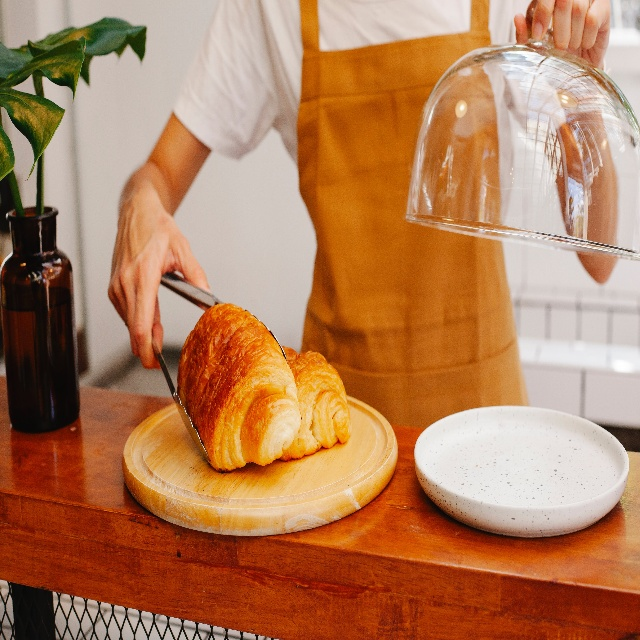Sin_guantes: (108, 183, 210, 370), (513, 0, 611, 70)
